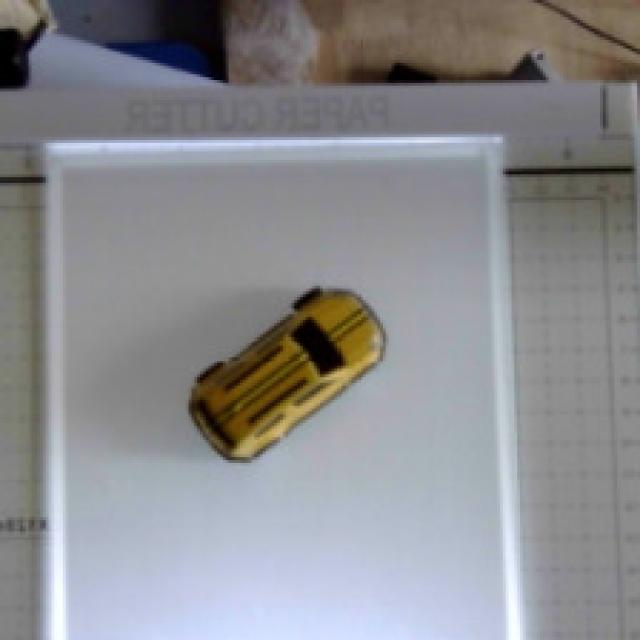Yellow Car: (141, 264, 434, 490)
